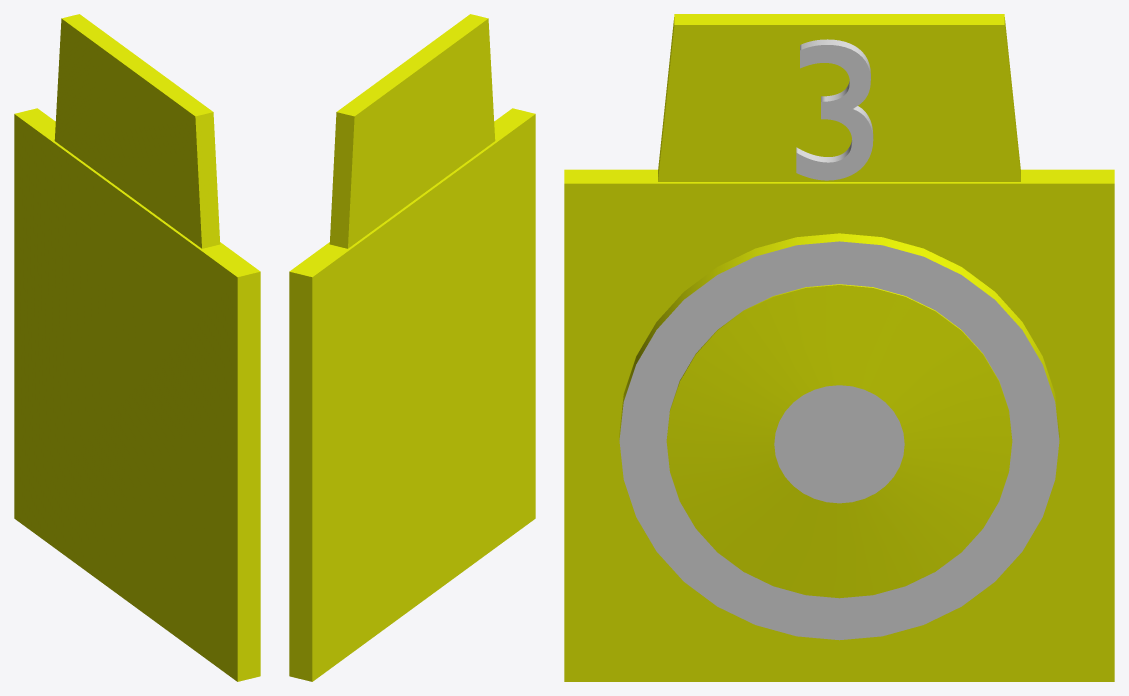
Rendered from Target3Yellow.fbx.
3 renders of one model, left to right at view 1: azimuth 30°, elevation 25°; view 2: azimuth 150°, elevation 25°; view 3: azimuth 270°, elevation 25°, orthographic. The views are drawn at different scales.
Visible parts, largest first — view 1: Target3Yellow; view 2: Target3Yellow; view 3: Target3Yellow, 3.
Part boxes in pixels (x1,y1,x2,y2): Target3Yellow: (14, 14, 260, 681); Target3Yellow: (289, 14, 535, 681); Target3Yellow: (564, 14, 1114, 681); 3: (796, 39, 873, 180).
Bounding box in the file's own units: 21.93 × 263 × 200.
